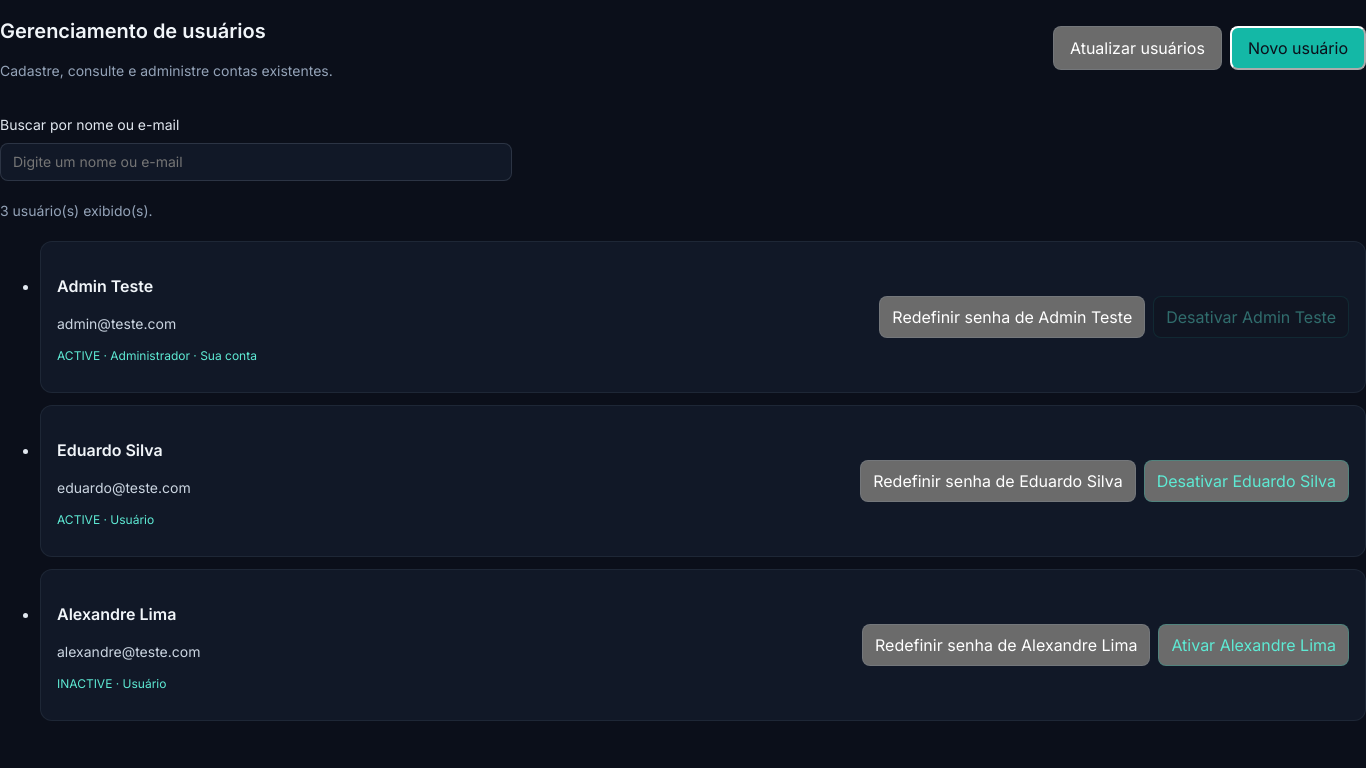
Test: FE-08: preserva modal e exibe erro do servidor
The image size is (1366, 768).
Click the button "Desativar Eduardo Silva": coordinates (1246, 481) [1144,460,1349,502]
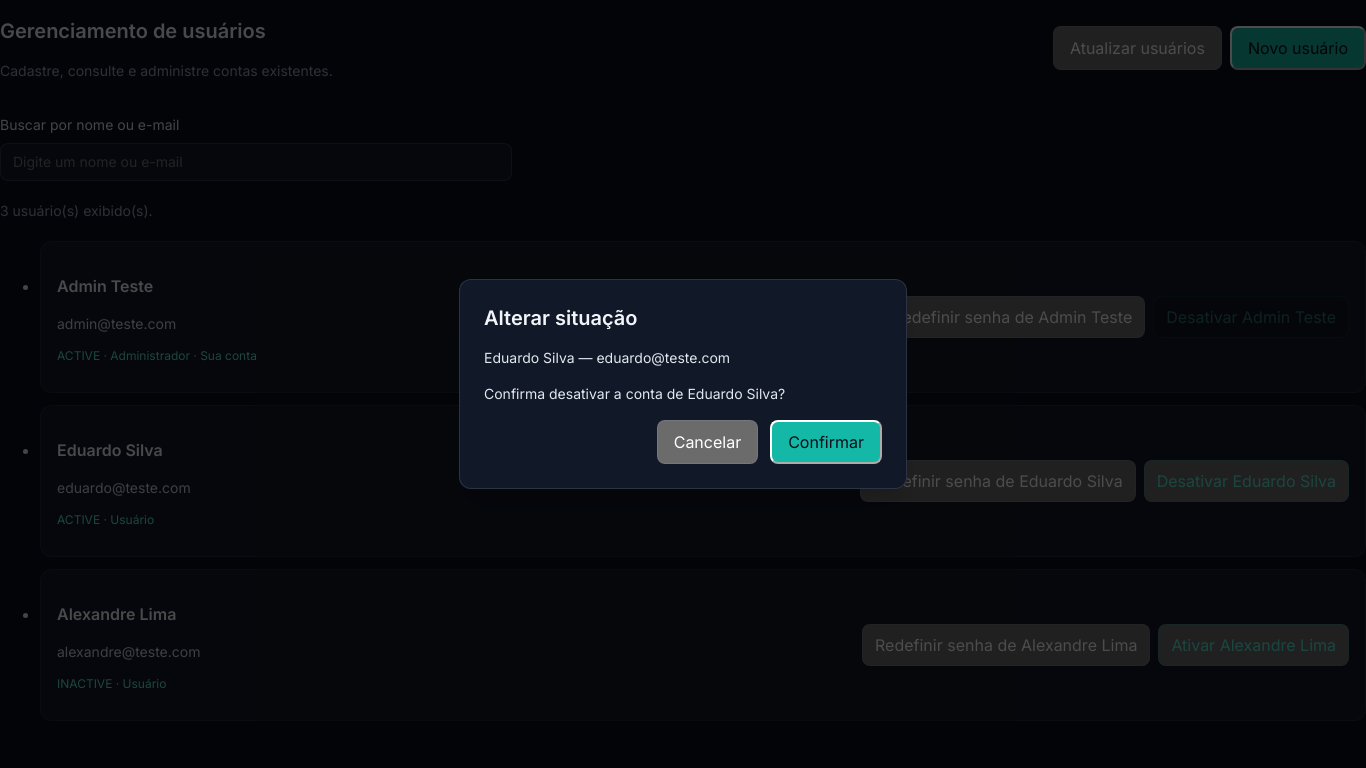
Click the button "Confirmar": coordinates (826, 442) [770,420,882,464]
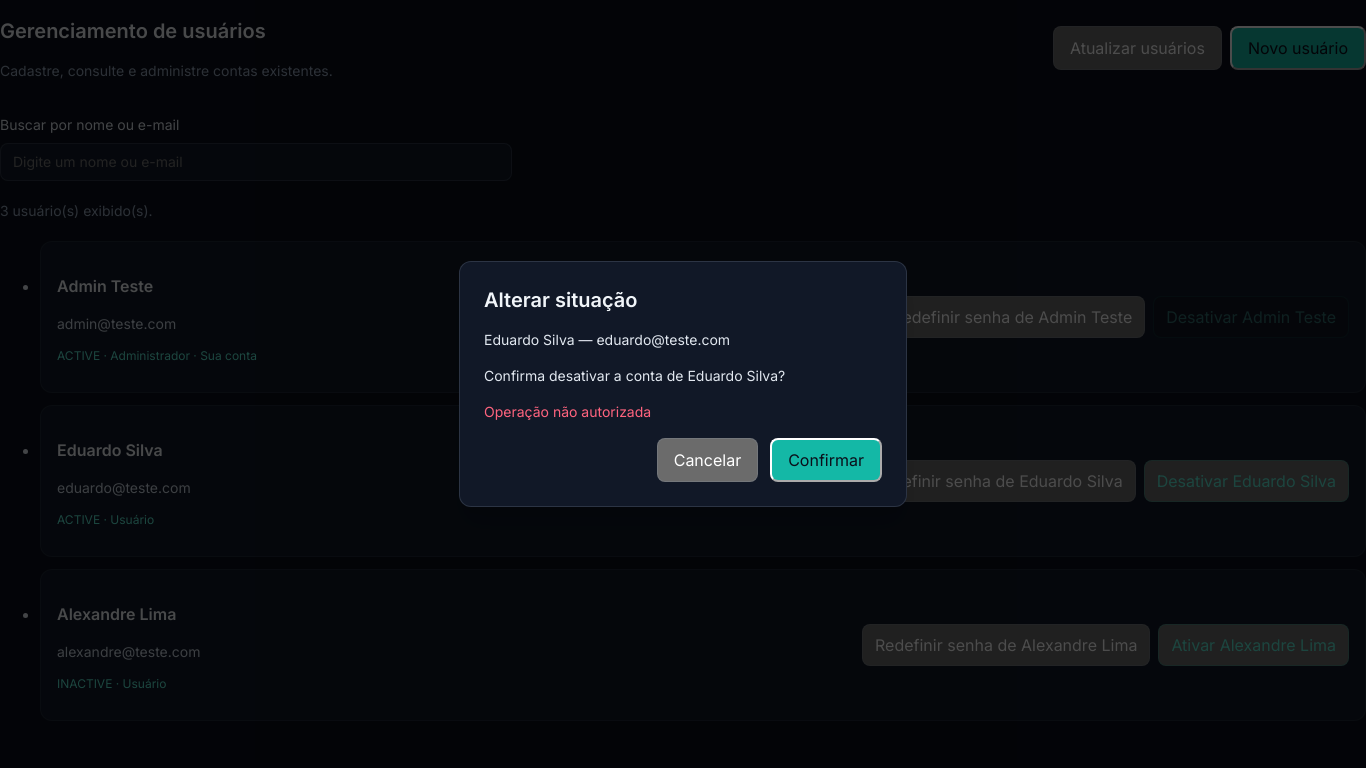
Check: the dialog "Alterar situação" is shown
Check: the message reads "Operação não autorizada", box [484,403,651,420]
